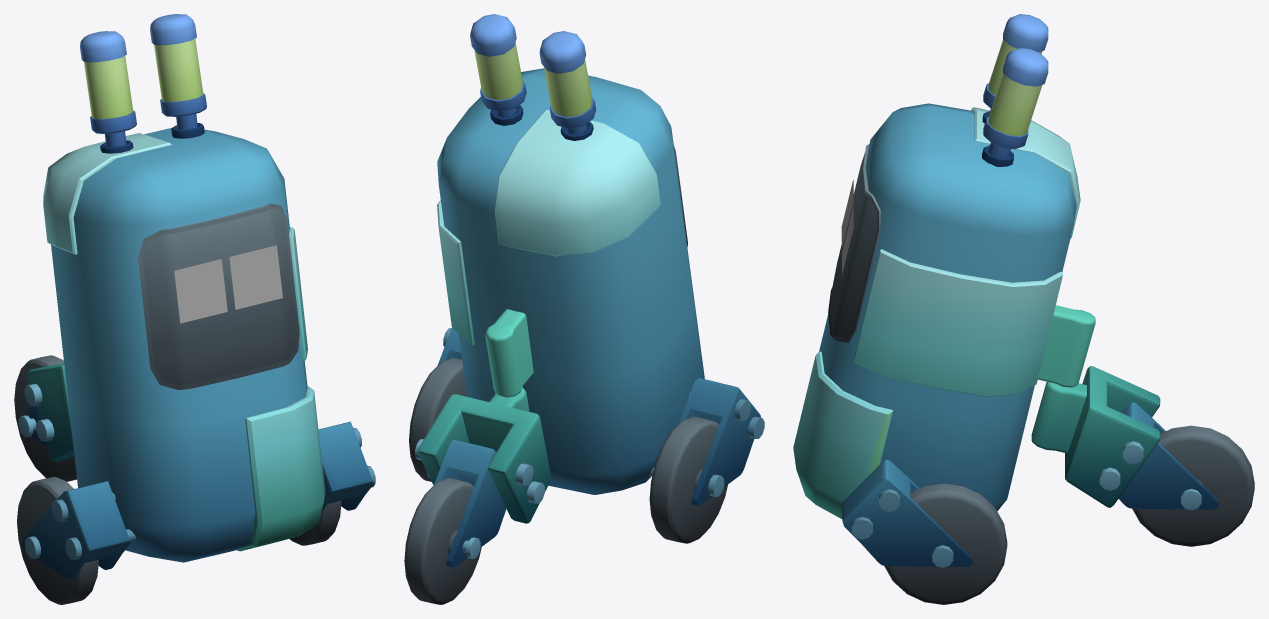
File: Milo.fbx
3 renders of one model, left to right at view 1: azimuth 30°, elevation 25°; view 2: azimuth 150°, elevation 25°; view 3: azimuth 270°, elevation 25°, orthographic.
Parts seen in each view (by area): view 1: Corps, Ecran, Pivots, PlaqueMetal, Oreille_part5Shape1, Oreille_part5Shape, PlaqueMetal1, Roue_Gauche, Machin2, polySurface1, polySurface2, Roue_Arriere (+3 smaller); view 2: Corps, PlaqueMetal1, Machin2, Roue_Gauche, Roue_Arriere, Pivots, Machin1, Oreille_part5Shape1, Oreille_part5Shape, Pivot, Roue_Droite, PlaqueMetal2 (+1 smaller); view 3: Corps, PlaqueMetal2, PlaqueMetal, Machin2, Roue_Arriere, Roue_Droite, Pivots, Ecran, Oreille_part5Shape1, Machin1, Pivot, Pivot_1 (+2 smaller).
Part boxes in pixels (<box>): Corps: <box>51,128,307,562</box>; Ecran: <box>138,203,299,390</box>; Pivots: <box>22,421,375,579</box>; PlaqueMetal: <box>237,386,325,551</box>; Oreille_part5Shape1: <box>150,14,206,138</box>; Oreille_part5Shape: <box>80,31,136,153</box>; PlaqueMetal1: <box>43,133,171,254</box>; Roue_Gauche: <box>17,477,98,604</box>; Machin2: <box>24,363,74,461</box>; polySurface1: <box>229,245,282,309</box>; polySurface2: <box>174,259,227,323</box>; Roue_Arriere: <box>14,355,76,481</box>; Corps: <box>437,68,704,494</box>; PlaqueMetal1: <box>494,109,660,256</box>; Machin2: <box>415,394,551,523</box>; Roue_Gauche: <box>649,416,727,543</box>; Roue_Arriere: <box>404,478,481,604</box>; Pivots: <box>438,328,764,506</box>; Machin1: <box>434,439,506,567</box>; Oreille_part5Shape1: <box>470,14,526,125</box>; Oreille_part5Shape: <box>539,31,596,140</box>; Pivot: <box>485,309,533,397</box>; Roue_Droite: <box>409,358,466,481</box>; PlaqueMetal2: <box>437,200,474,345</box>; Corps: <box>819,103,1076,511</box>; PlaqueMetal2: <box>853,249,1062,396</box>; PlaqueMetal: <box>793,351,893,518</box>; Machin2: <box>1065,366,1160,507</box>; Roue_Arriere: <box>1132,425,1254,546</box>; Roue_Droite: <box>884,483,1007,604</box>; Pivots: <box>842,459,972,567</box>; Ecran: <box>828,144,880,342</box>; Oreille_part5Shape1: <box>982,47,1048,166</box>; Machin1: <box>1118,402,1218,510</box>; Pivot: <box>1038,305,1095,387</box>; Pivot_1: <box>1031,381,1086,453</box>.
Size of the model in its own units: 68.88 by 113 by 93.09.
